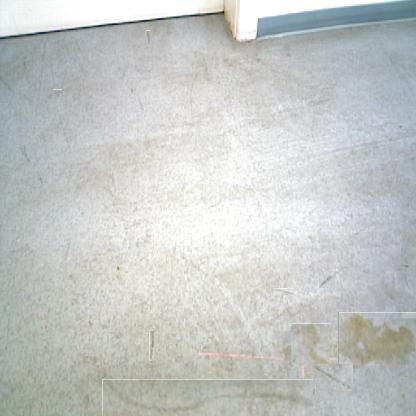liquid: (338, 312, 416, 369), (287, 327, 334, 375), (315, 363, 353, 391)
mark: (102, 379, 313, 416), (318, 268, 340, 288), (276, 285, 291, 299), (20, 145, 30, 163), (149, 330, 154, 361), (136, 95, 144, 111), (145, 30, 151, 45), (402, 261, 410, 269), (54, 88, 61, 96), (116, 264, 120, 272), (398, 122, 402, 130), (129, 86, 133, 94)
